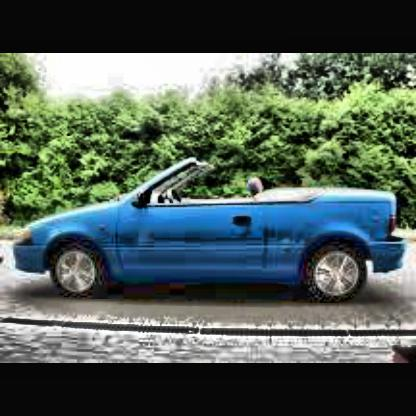Geo Metro Convertible 1993: (18, 155, 408, 307)
